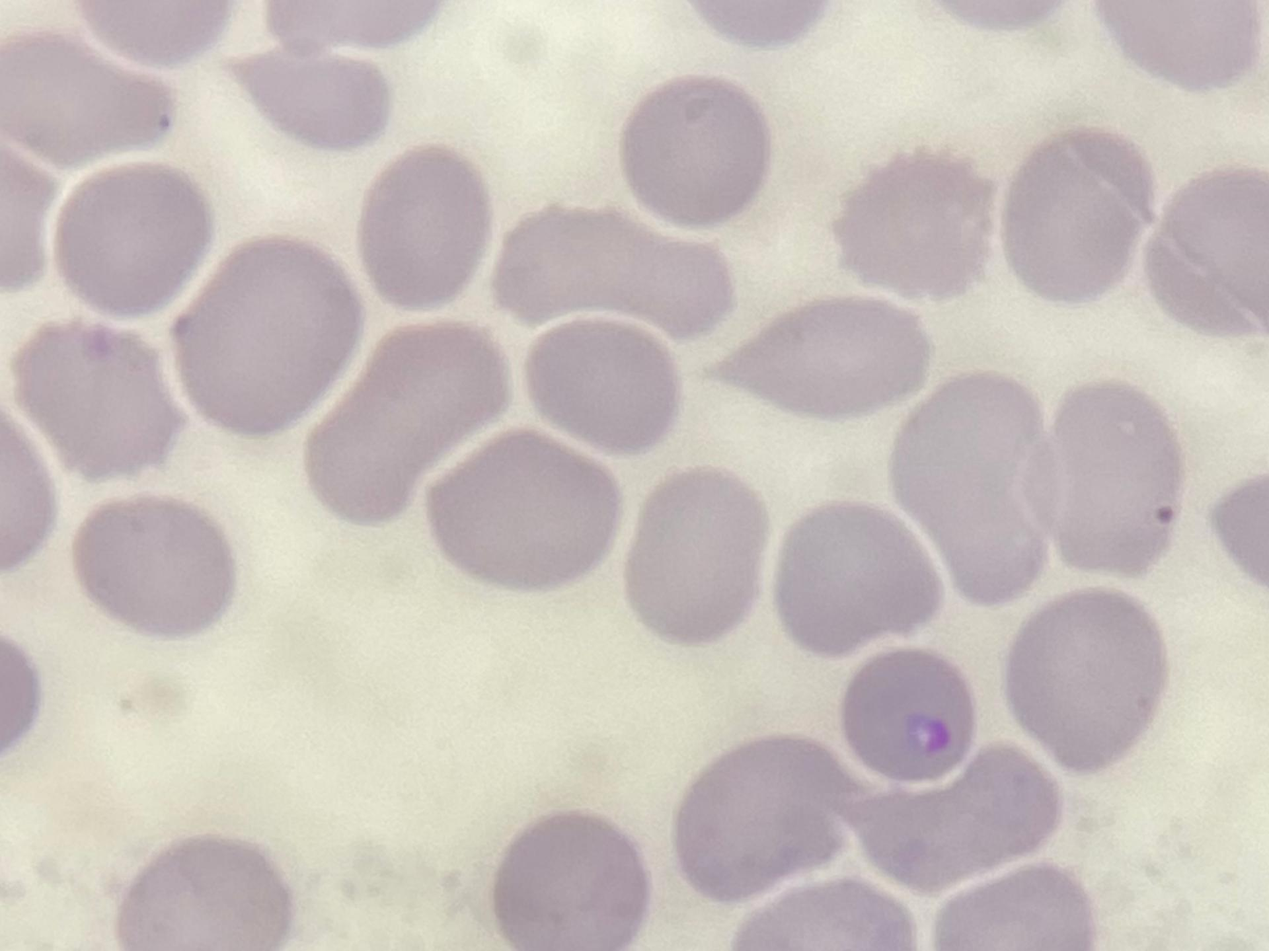Infected: (837, 646, 975, 786)
Uninfected: (305, 321, 513, 525), (890, 375, 1056, 609), (173, 237, 367, 436), (841, 741, 1063, 894), (424, 424, 622, 595), (674, 734, 869, 904), (1020, 380, 1184, 577), (493, 205, 730, 340), (14, 316, 188, 483), (1009, 589, 1165, 771), (712, 292, 930, 418), (1005, 129, 1156, 305), (773, 498, 939, 656), (625, 465, 769, 646), (52, 161, 212, 319), (828, 153, 997, 302), (3, 30, 175, 171), (71, 492, 236, 638), (521, 312, 683, 457), (357, 144, 498, 310), (619, 75, 770, 224), (491, 811, 647, 948), (1147, 165, 1267, 340), (116, 834, 292, 948), (226, 46, 389, 155), (1103, 1, 1260, 93)
